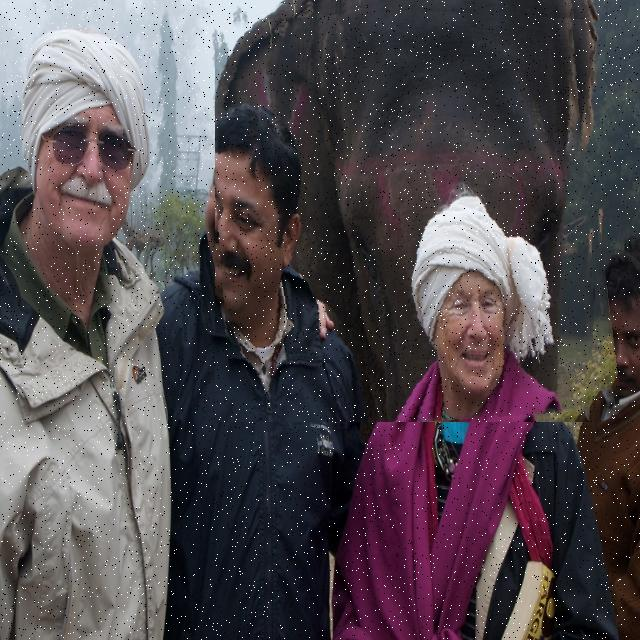elephant: (215, 0, 607, 422)
